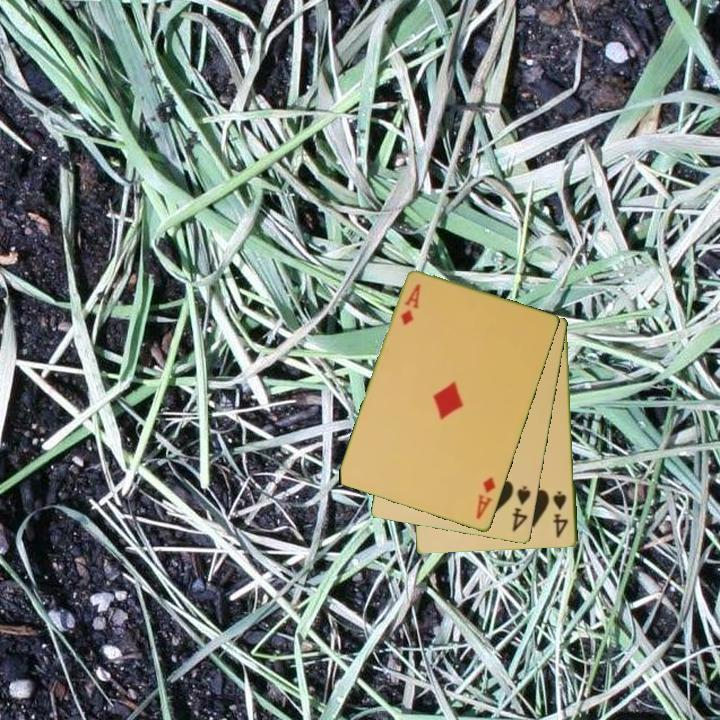4s: (509, 482, 534, 535), (550, 488, 571, 541)
Ad: (397, 281, 424, 329), (473, 474, 499, 522)
